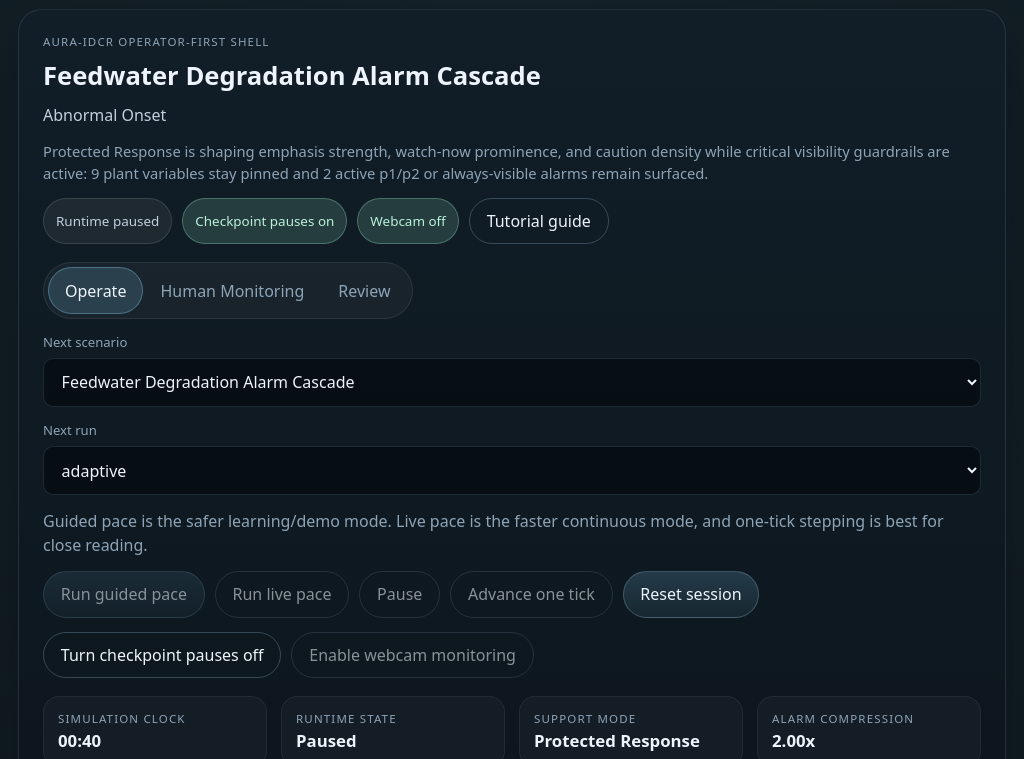
Test: AuraSessionStore › renders session comparison when both modes have completed captures
The width and height of the screenshot is (1024, 759).
Click the tab "Review" at {"x": 364, "y": 291}, box [321, 267, 408, 314]
(page scrolled)
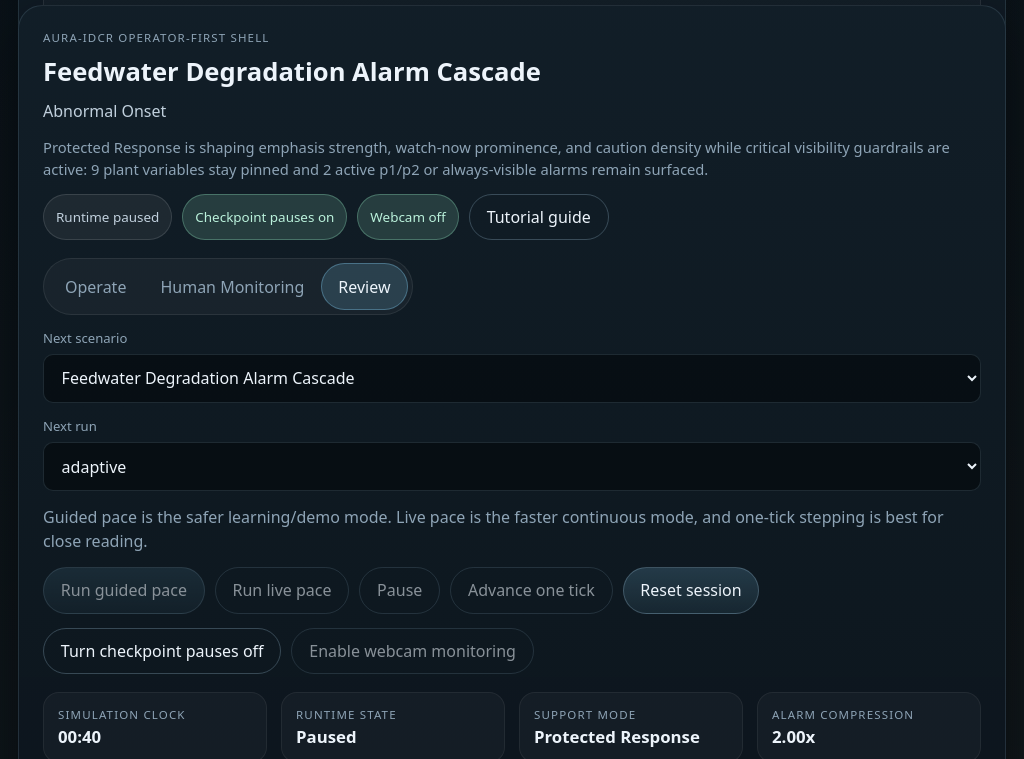
Now the heading "Why the AURA-assisted run was different" is shown, box [62, 363, 445, 388]
